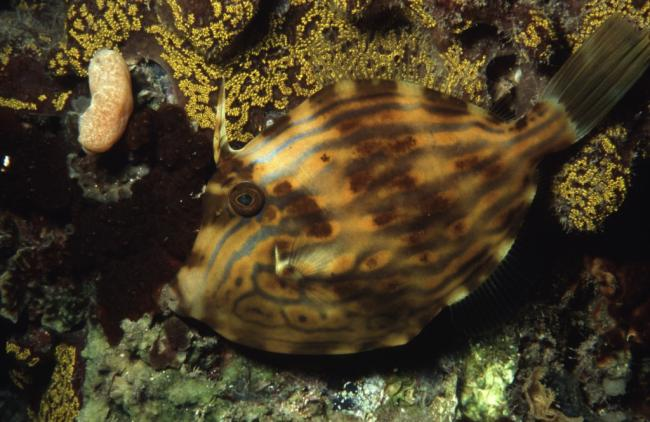fish: (160, 12, 650, 356)
